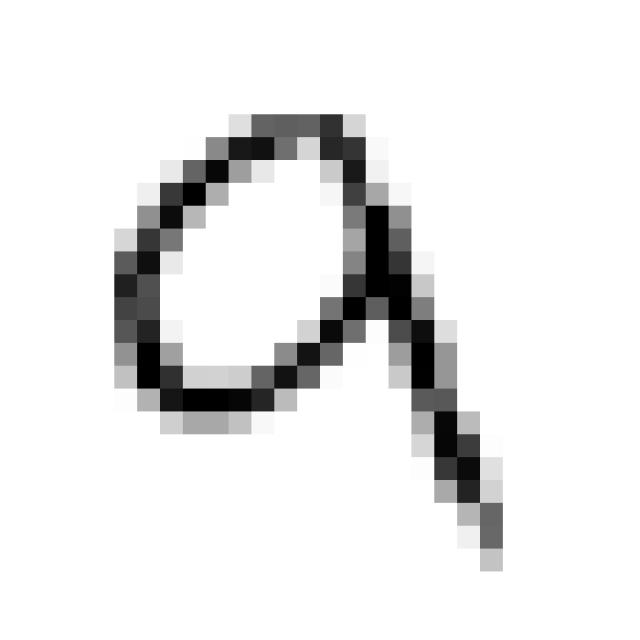9 -nine-: (91, 89, 523, 582)
